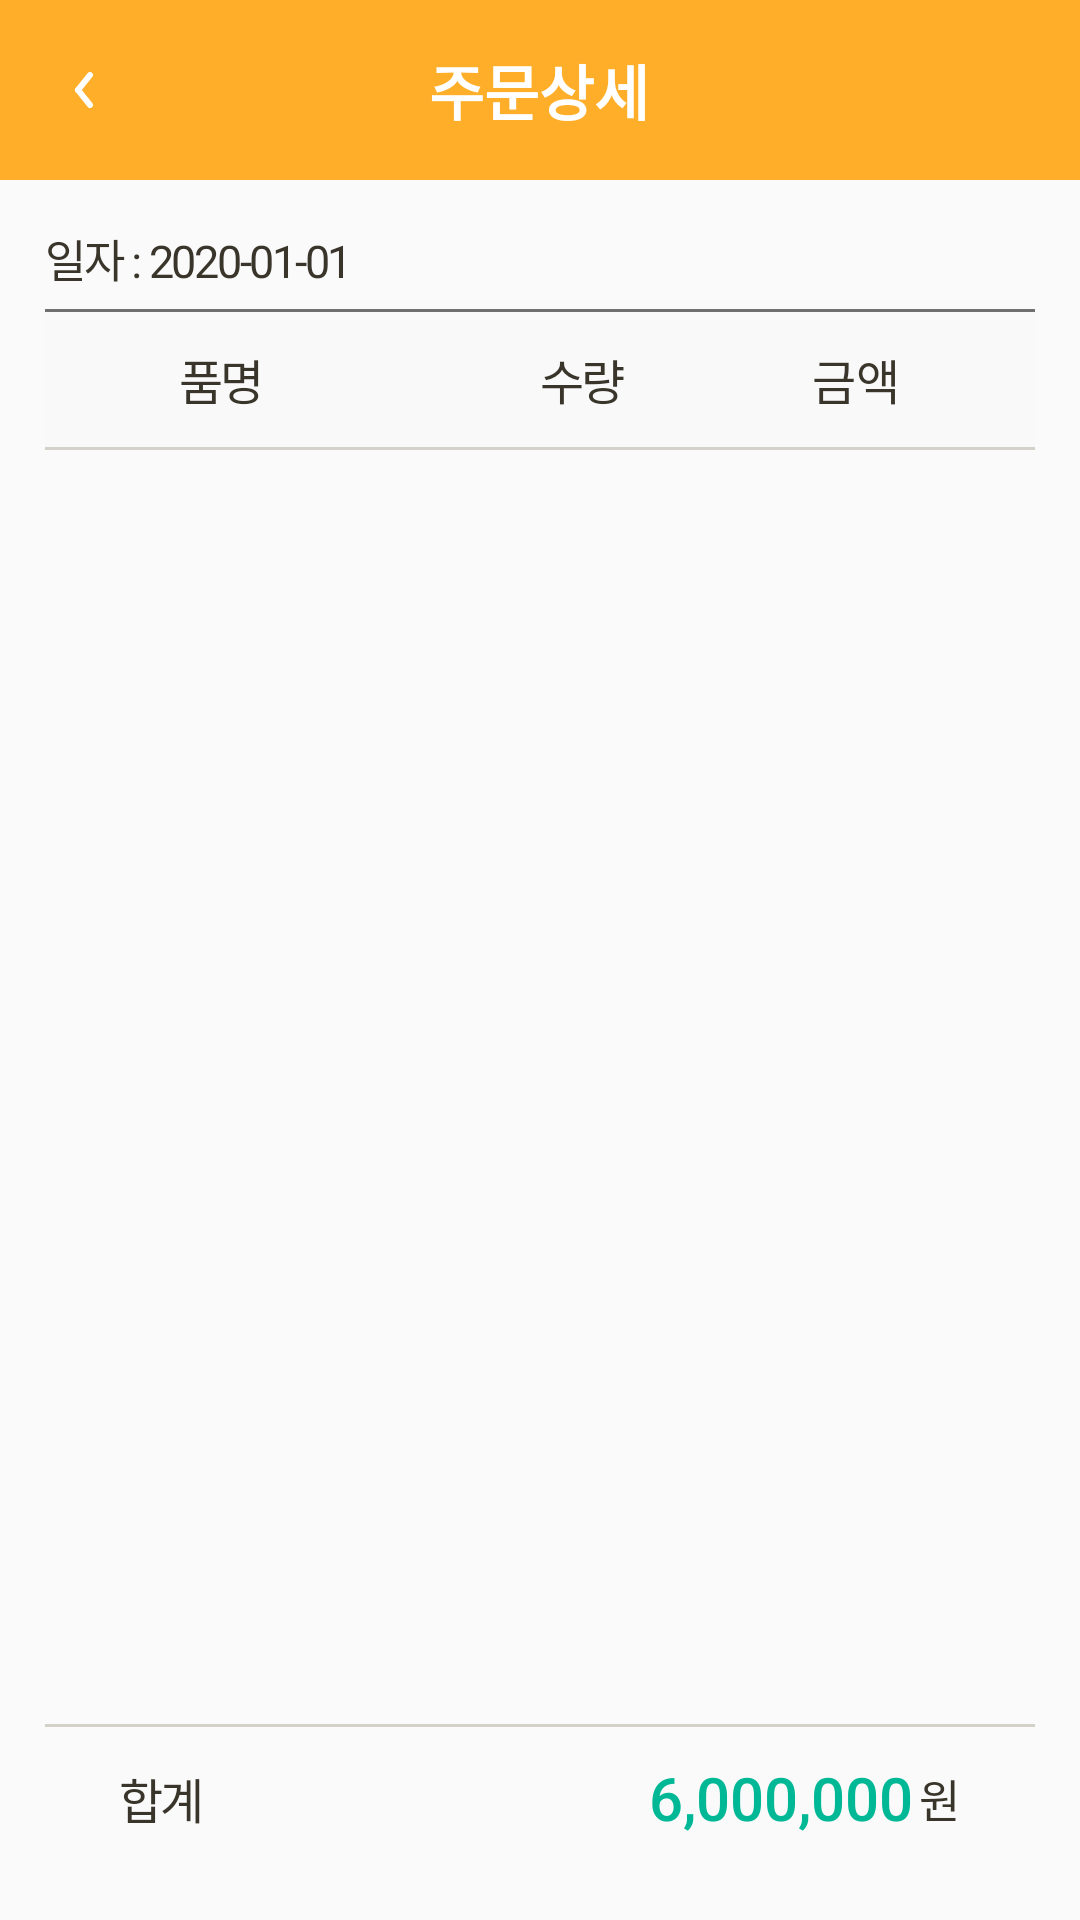

Icons on this 1080×1920 Android screen, each with the point to tap as [x,y]:
arrow prev: [84,90]
